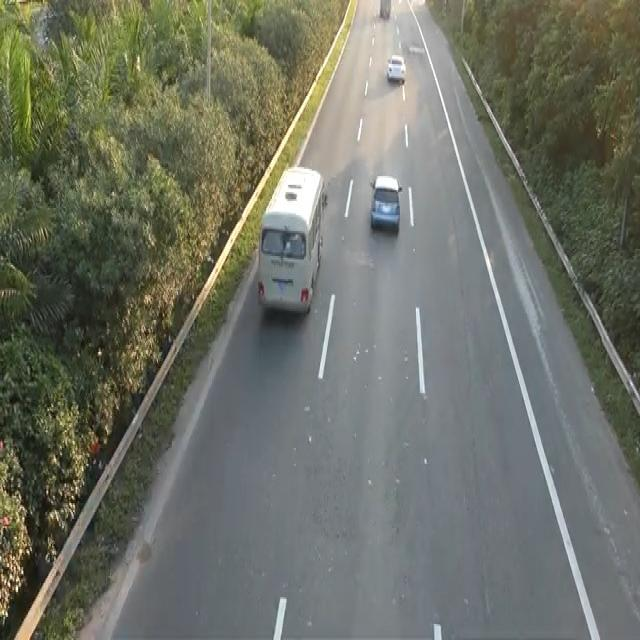bus: (368, 171, 402, 233)
jeep: (255, 162, 327, 316)
